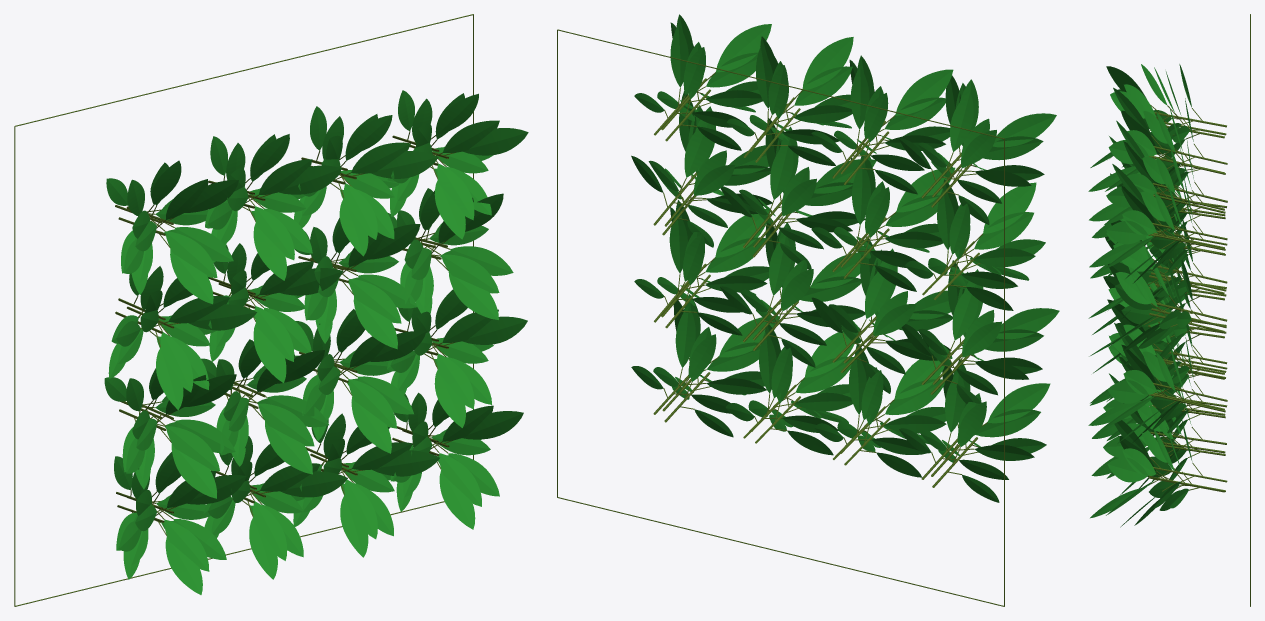
Rendered from aglaonema_commutatum_green_wall_1m2.obj.
3 renders of one model, left to right at view 1: azimuth 30°, elevation 25°; view 2: azimuth 150°, elevation 25°; view 3: azimuth 270°, elevation 25°, orthographic. The views are drawn at different scales.
Parts seen in each view (by area): view 1: leaf_unit_1_1_2_4, leaf_unit_1_0_2_4, leaf_unit_1_1_1_5, leaf_unit_2_3_2_4, leaf_unit_1_0_1_5, leaf_unit_3_0_2_4, leaf_unit_2_2_2_4, leaf_unit_1_2_2_4, leaf_unit_2_3_1_5, leaf_unit_3_2_0_5, leaf_unit_3_0_1_5, leaf_unit_2_0_0_5 (+71 smaller); view 2: leaf_unit_3_2_2_5, leaf_unit_3_1_2_5, leaf_unit_3_3_2_5, leaf_unit_0_0_2_5, leaf_unit_2_0_2_5, leaf_unit_3_0_2_5, leaf_unit_1_0_2_5, leaf_unit_1_3_2_5, leaf_unit_0_2_2_5, leaf_unit_0_1_2_5, leaf_unit_2_0_0_4, leaf_unit_3_2_0_4 (+60 smaller); view 3: leaf_unit_0_3_0_5, leaf_unit_3_3_0_5, leaf_unit_1_3_0_5, leaf_unit_2_3_0_5, leaf_unit_3_3_1_4, leaf_unit_1_3_1_4, leaf_unit_2_3_1_3, leaf_unit_0_3_1_4, leaf_unit_1_3_1_5, leaf_unit_3_3_1_5, leaf_unit_3_1_2_5, leaf_unit_3_0_2_5 (+41 smaller).
Boxes of the visible parts, left/top/right/bottom form: leaf_unit_1_1_2_4: left=258, top=403, right=314, bottom=446; leaf_unit_1_0_2_4: left=166, top=426, right=219, bottom=471; leaf_unit_1_1_1_5: left=265, top=421, right=312, bottom=474; leaf_unit_2_3_2_4: left=441, top=254, right=499, bottom=293; leaf_unit_1_0_1_5: left=171, top=443, right=216, bottom=498; leaf_unit_3_0_2_4: left=165, top=231, right=217, bottom=277; leaf_unit_2_2_2_4: left=348, top=278, right=401, bottom=323; leaf_unit_1_2_2_4: left=348, top=379, right=396, bottom=428; leaf_unit_2_3_1_5: left=448, top=271, right=498, bottom=319; leaf_unit_3_2_0_5: left=371, top=151, right=438, bottom=178; leaf_unit_3_0_1_5: left=170, top=248, right=213, bottom=304; leaf_unit_2_0_0_5: left=188, top=304, right=256, bottom=330; leaf_unit_3_2_2_5: left=802, top=37, right=853, bottom=89; leaf_unit_3_1_2_5: left=895, top=69, right=953, bottom=115; leaf_unit_3_3_2_5: left=716, top=24, right=771, bottom=72; leaf_unit_0_0_2_5: left=987, top=383, right=1050, bottom=423; leaf_unit_2_0_2_5: left=983, top=182, right=1036, bottom=233; leaf_unit_3_0_2_5: left=993, top=113, right=1056, bottom=147; leaf_unit_1_0_2_5: left=996, top=308, right=1059, bottom=339; leaf_unit_1_3_2_5: left=715, top=209, right=769, bottom=257; leaf_unit_0_2_2_5: left=805, top=331, right=857, bottom=377; leaf_unit_0_1_2_5: left=894, top=359, right=944, bottom=399; leaf_unit_2_0_0_4: left=974, top=212, right=1033, bottom=249; leaf_unit_3_2_0_4: left=794, top=66, right=852, bottom=105; leaf_unit_0_3_0_5: left=1107, top=457, right=1148, bottom=482; leaf_unit_3_3_0_5: left=1106, top=220, right=1147, bottom=244; leaf_unit_1_3_0_5: left=1107, top=380, right=1148, bottom=403; leaf_unit_2_3_0_5: left=1115, top=272, right=1150, bottom=304; leaf_unit_3_3_1_4: left=1122, top=210, right=1156, bottom=235; leaf_unit_1_3_1_4: left=1123, top=370, right=1156, bottom=395; leaf_unit_2_3_1_3: left=1121, top=305, right=1160, bottom=324; leaf_unit_0_3_1_4: left=1122, top=448, right=1155, bottom=475; leaf_unit_1_3_1_5: left=1088, top=401, right=1141, bottom=425; leaf_unit_3_3_1_5: left=1089, top=241, right=1141, bottom=267; leaf_unit_3_1_2_5: left=1113, top=87, right=1151, bottom=135; leaf_unit_3_0_2_5: left=1106, top=66, right=1146, bottom=98.
Bounding box in the file's own units: 1 × 1 × 0.3654.
